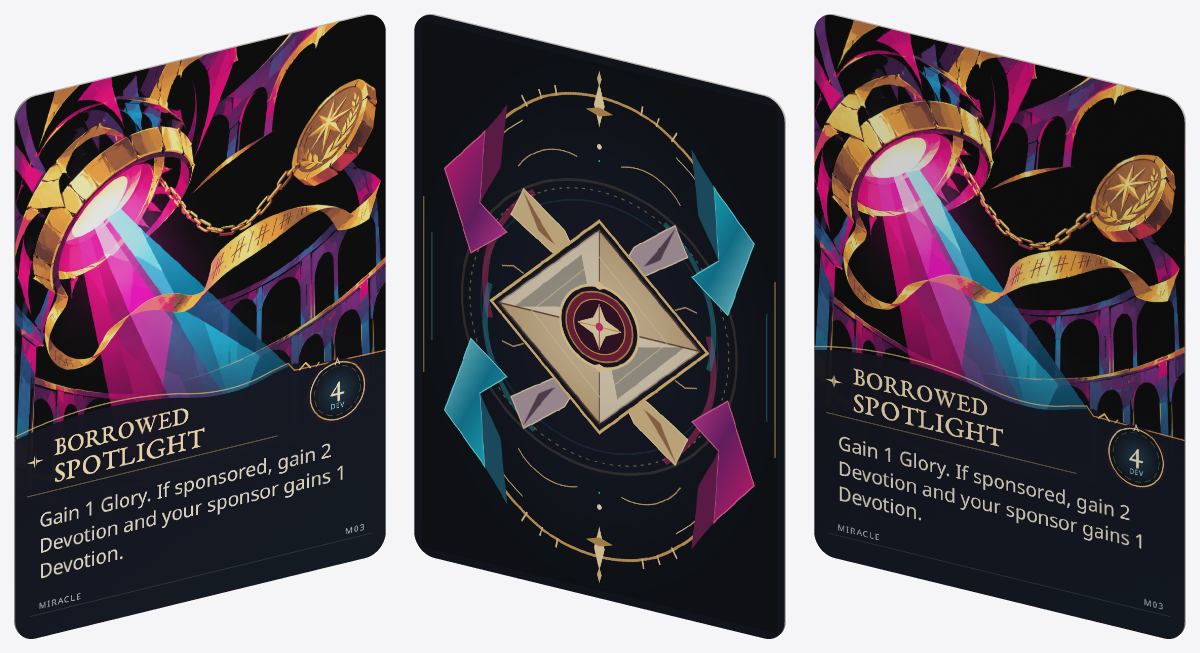
The model's file is SGLD_M03_MIRACLE_POKER_CARD_3D_v0.2-P.glb.
3 views of the same model, side by side, from view 1: azimuth 30°, elevation 25°; view 2: azimuth 150°, elevation 25°; view 3: azimuth 330°, elevation 25° (orthographic).
Parts seen in each view (by area): view 1: M03_FRONT, M03_EDGE; view 2: M03_BACK, M03_EDGE; view 3: M03_FRONT, M03_EDGE.
Boxes of the visible parts, bbox=[...] form: M03_FRONT: bbox=[15, 15, 385, 638]; M03_EDGE: bbox=[14, 14, 377, 633]; M03_BACK: bbox=[414, 15, 784, 638]; M03_EDGE: bbox=[422, 14, 785, 633]; M03_FRONT: bbox=[814, 15, 1184, 638]; M03_EDGE: bbox=[822, 14, 1185, 633].
Size of the model in its own units: 0.0635 by 0.0889 by 0.00038.
Materials: 3 (2 with a texture image).
